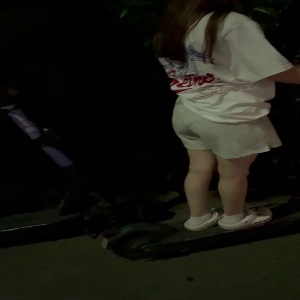human on a scooter: (92, 1, 300, 264)
